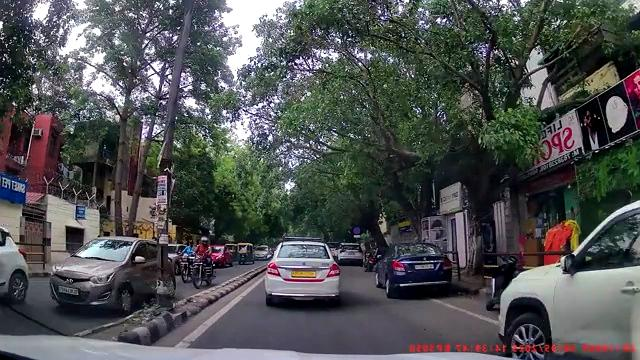motorcycle_with_helmet: (185, 235, 216, 289)
